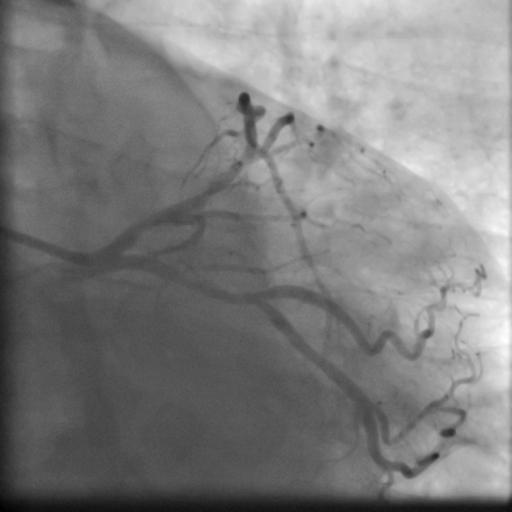Stenosis: (126, 213, 172, 236)
